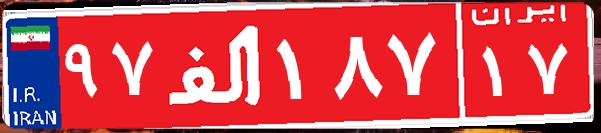1: (273, 28, 330, 110), (475, 38, 525, 113)
7: (385, 28, 445, 110), (110, 28, 158, 105), (525, 38, 570, 115)
8: (330, 28, 385, 110)
9: (57, 26, 110, 107)
الف: (158, 15, 273, 115)
